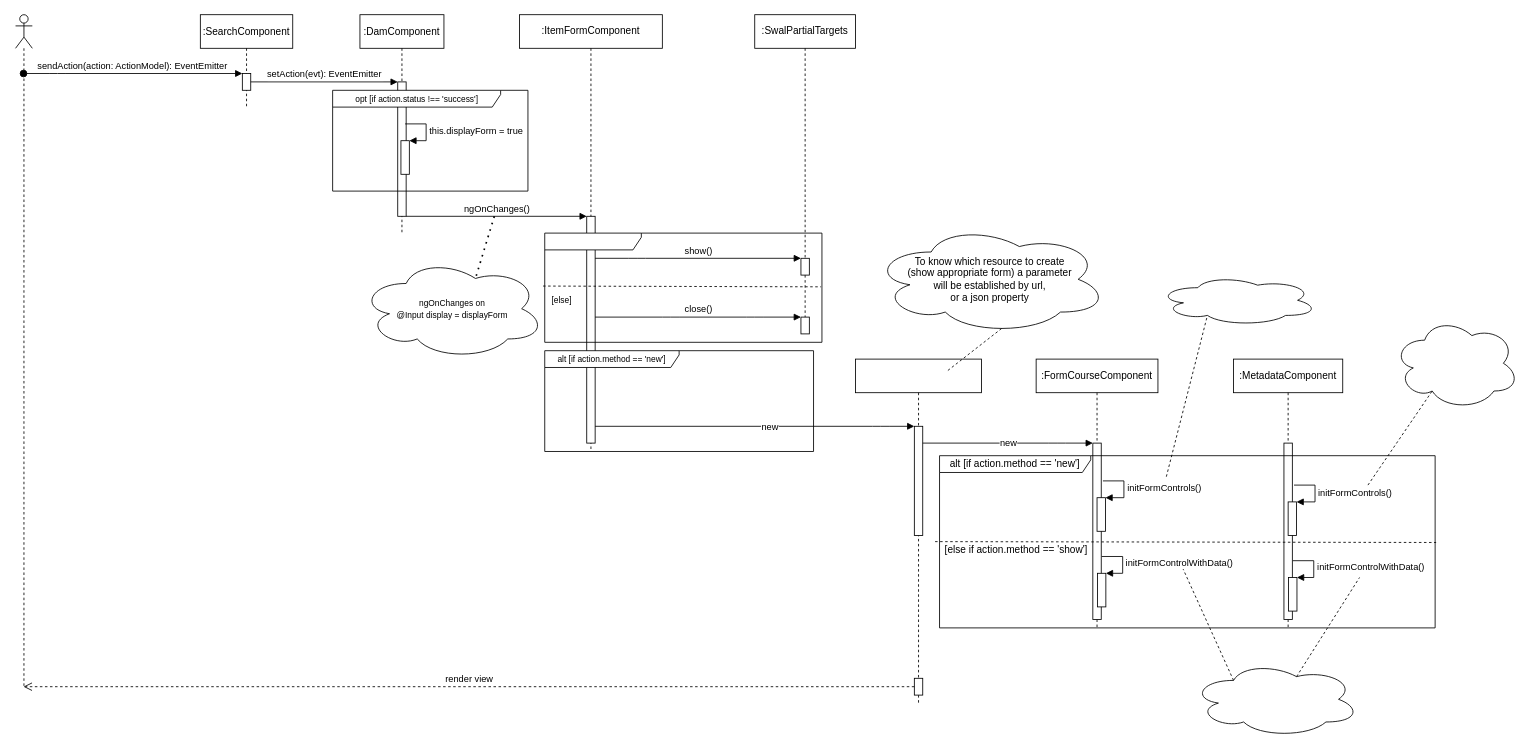
Image size: 1534x752. Some labels were removed from this diagram. The box of each missing label's shape, as (x1, y1, x2, y2) in pixels:
:ModalCourseComponent: (855, 358, 982, 704)
alt [if display == true]: (544, 232, 822, 342)
Fields are printed and filled from item field on action directive: (1191, 661, 1360, 737)
Print fields from JSON structure: (1392, 316, 1519, 410)
Print fields statically: (1157, 274, 1318, 326)
